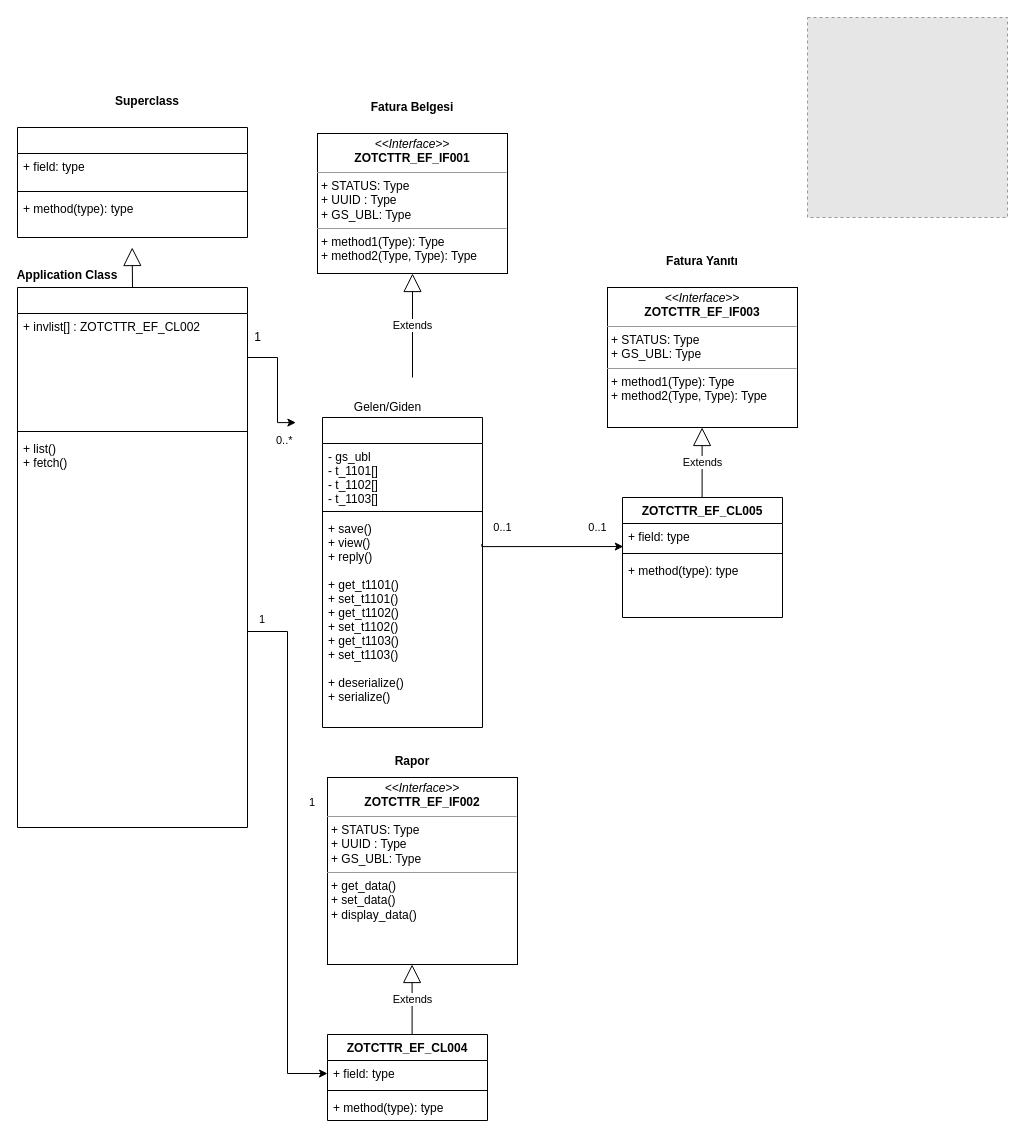
This 1025x1141 diagram has some shape labels left out. Grey dashed boxes stand in for pictures. Here are the shapes that lost their labels. From the top down, the box of each, then its label:
(16, 126, 248, 238): ZOTCTTR_EF_CL000
(16, 286, 248, 828): ZOTCTTR_EF_CL001
(322, 416, 482, 728): ZOTCTTR_EF_CL002
